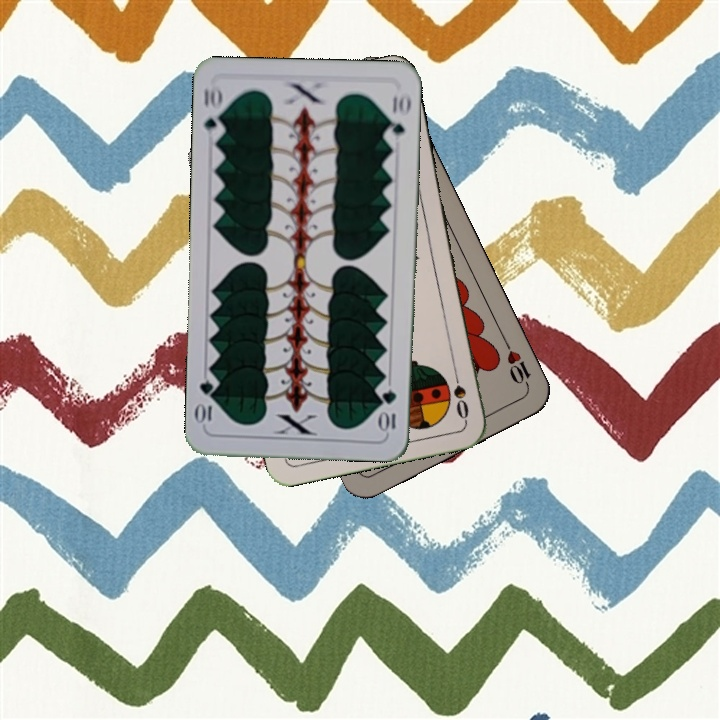G10: (200, 82, 227, 141), (378, 386, 399, 434)
H10: (500, 337, 533, 393)
SO: (449, 364, 471, 422)
